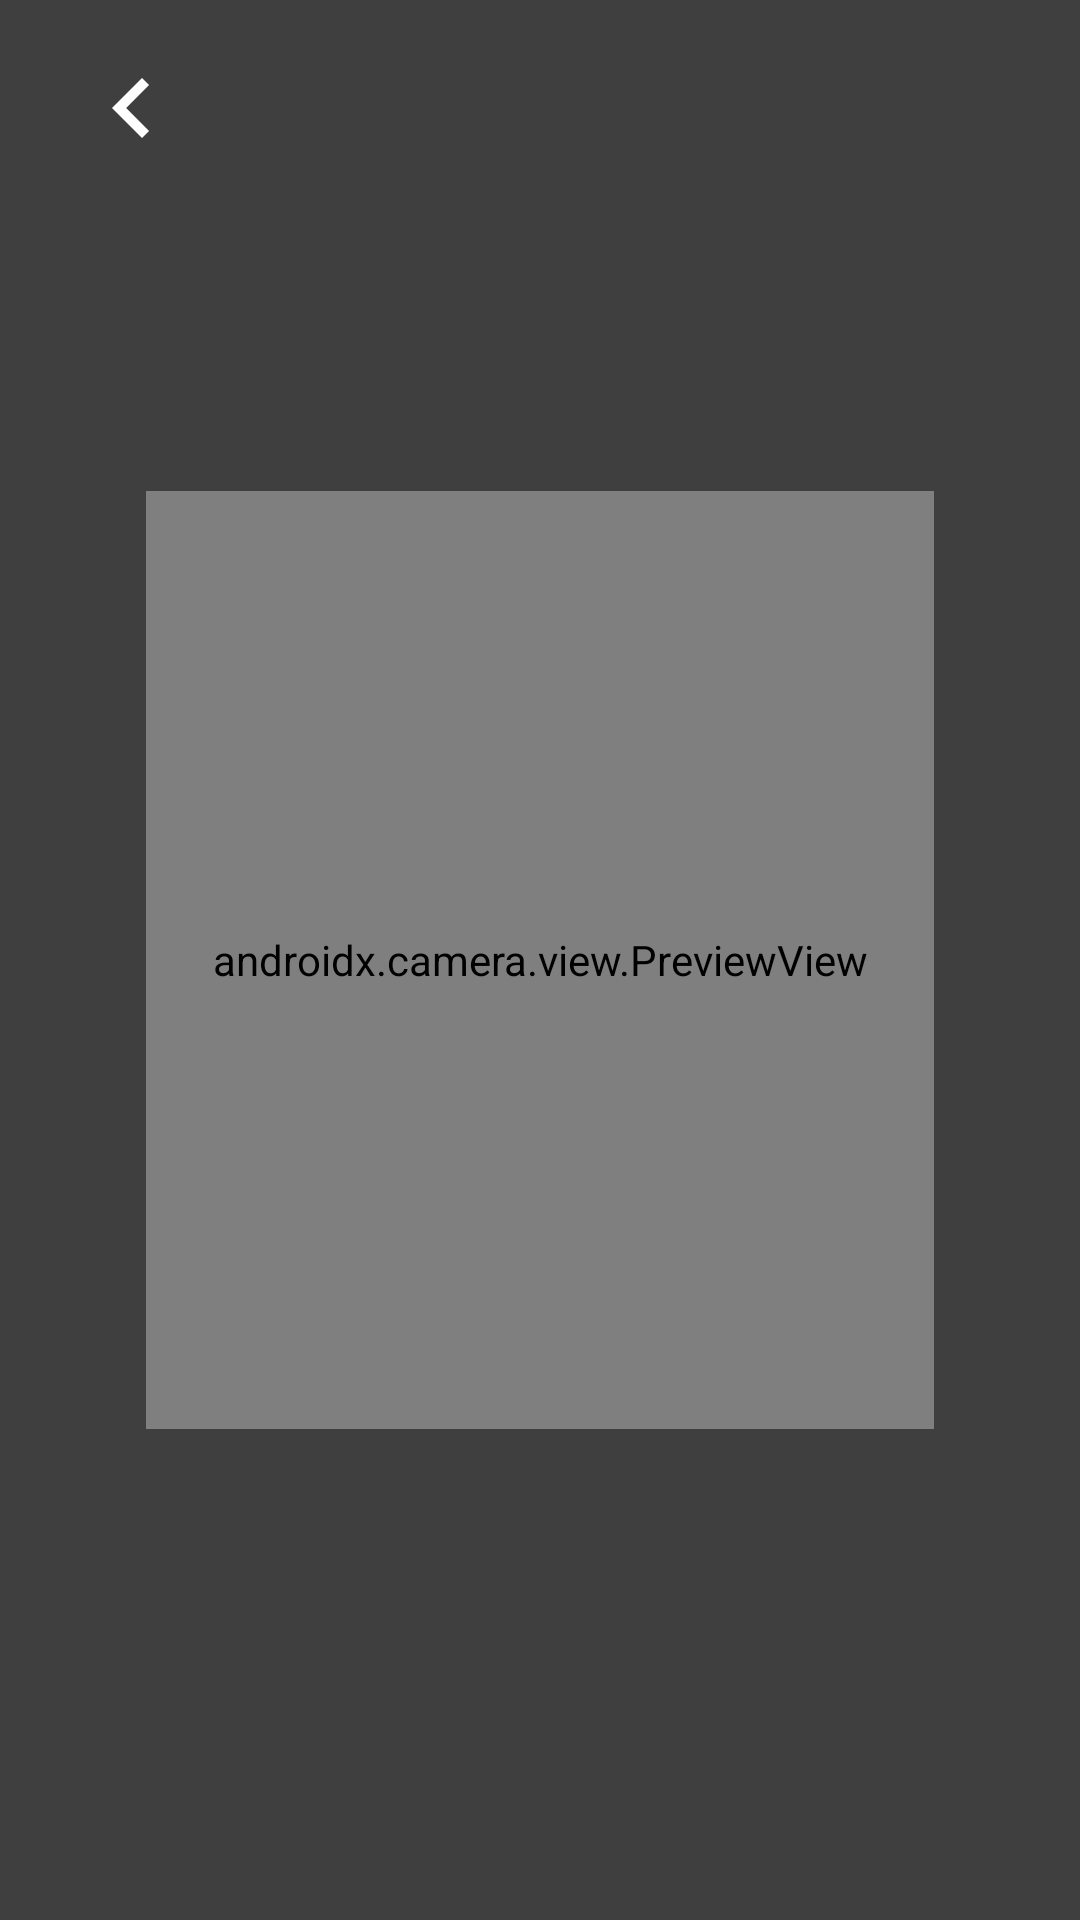

Named icons in this screenshot (1080px×1920px) and their centers, (x,y):
left: (130,108)
